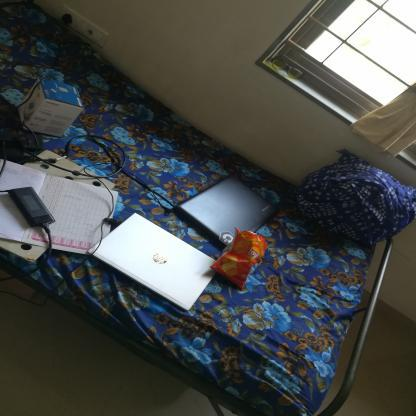hot_and_sweet: (217, 231, 270, 296)
